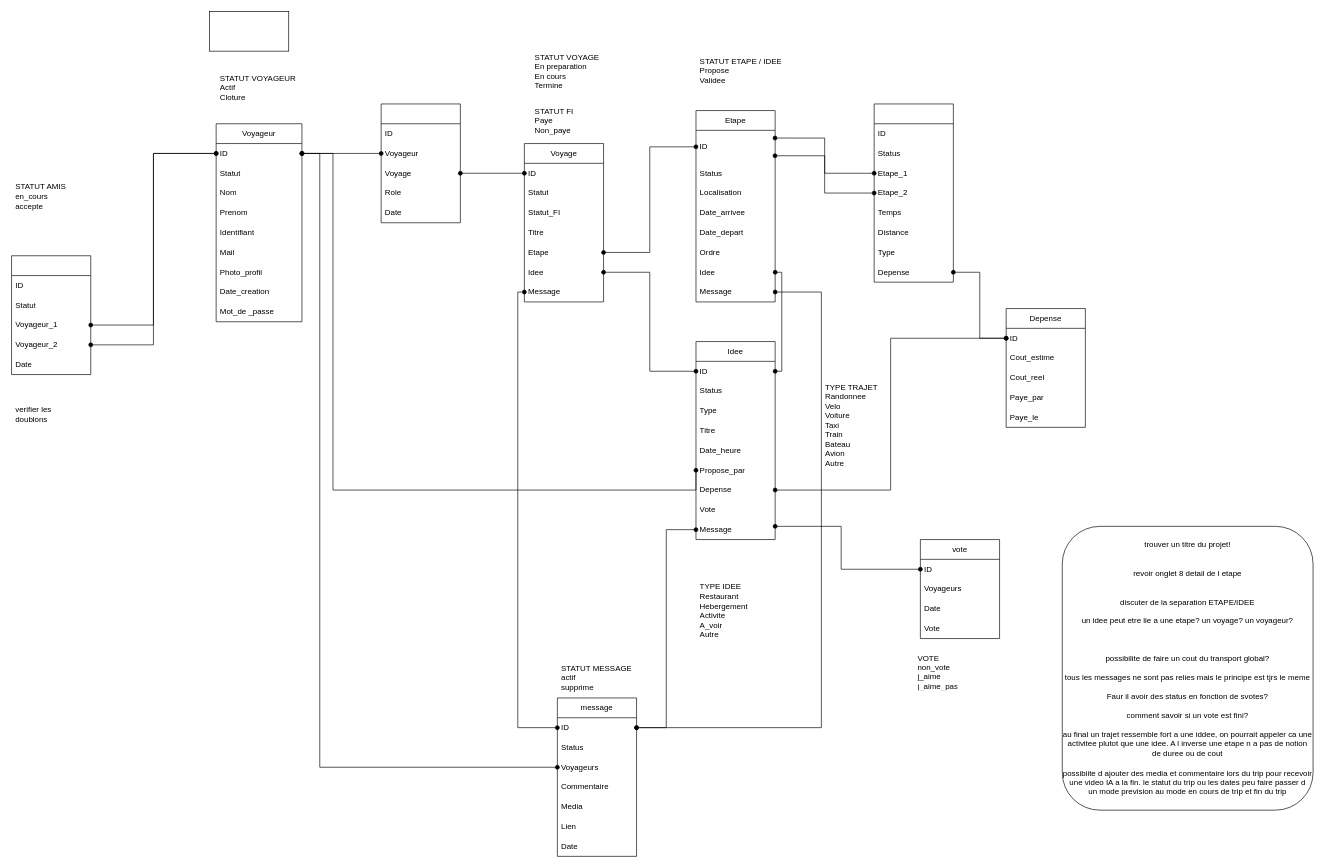
Some shapes in this 1325 by 868 pixel diagram are drawn without their labels. Here are the shapes that lost their labels. From the top down, the box of each, then its label:
(209, 11, 289, 51): MLD
(380, 103, 460, 223): Participation
(874, 103, 953, 282): Trajet
(11, 255, 91, 375): Amis
